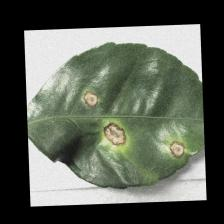canker: (71, 83, 193, 170)
